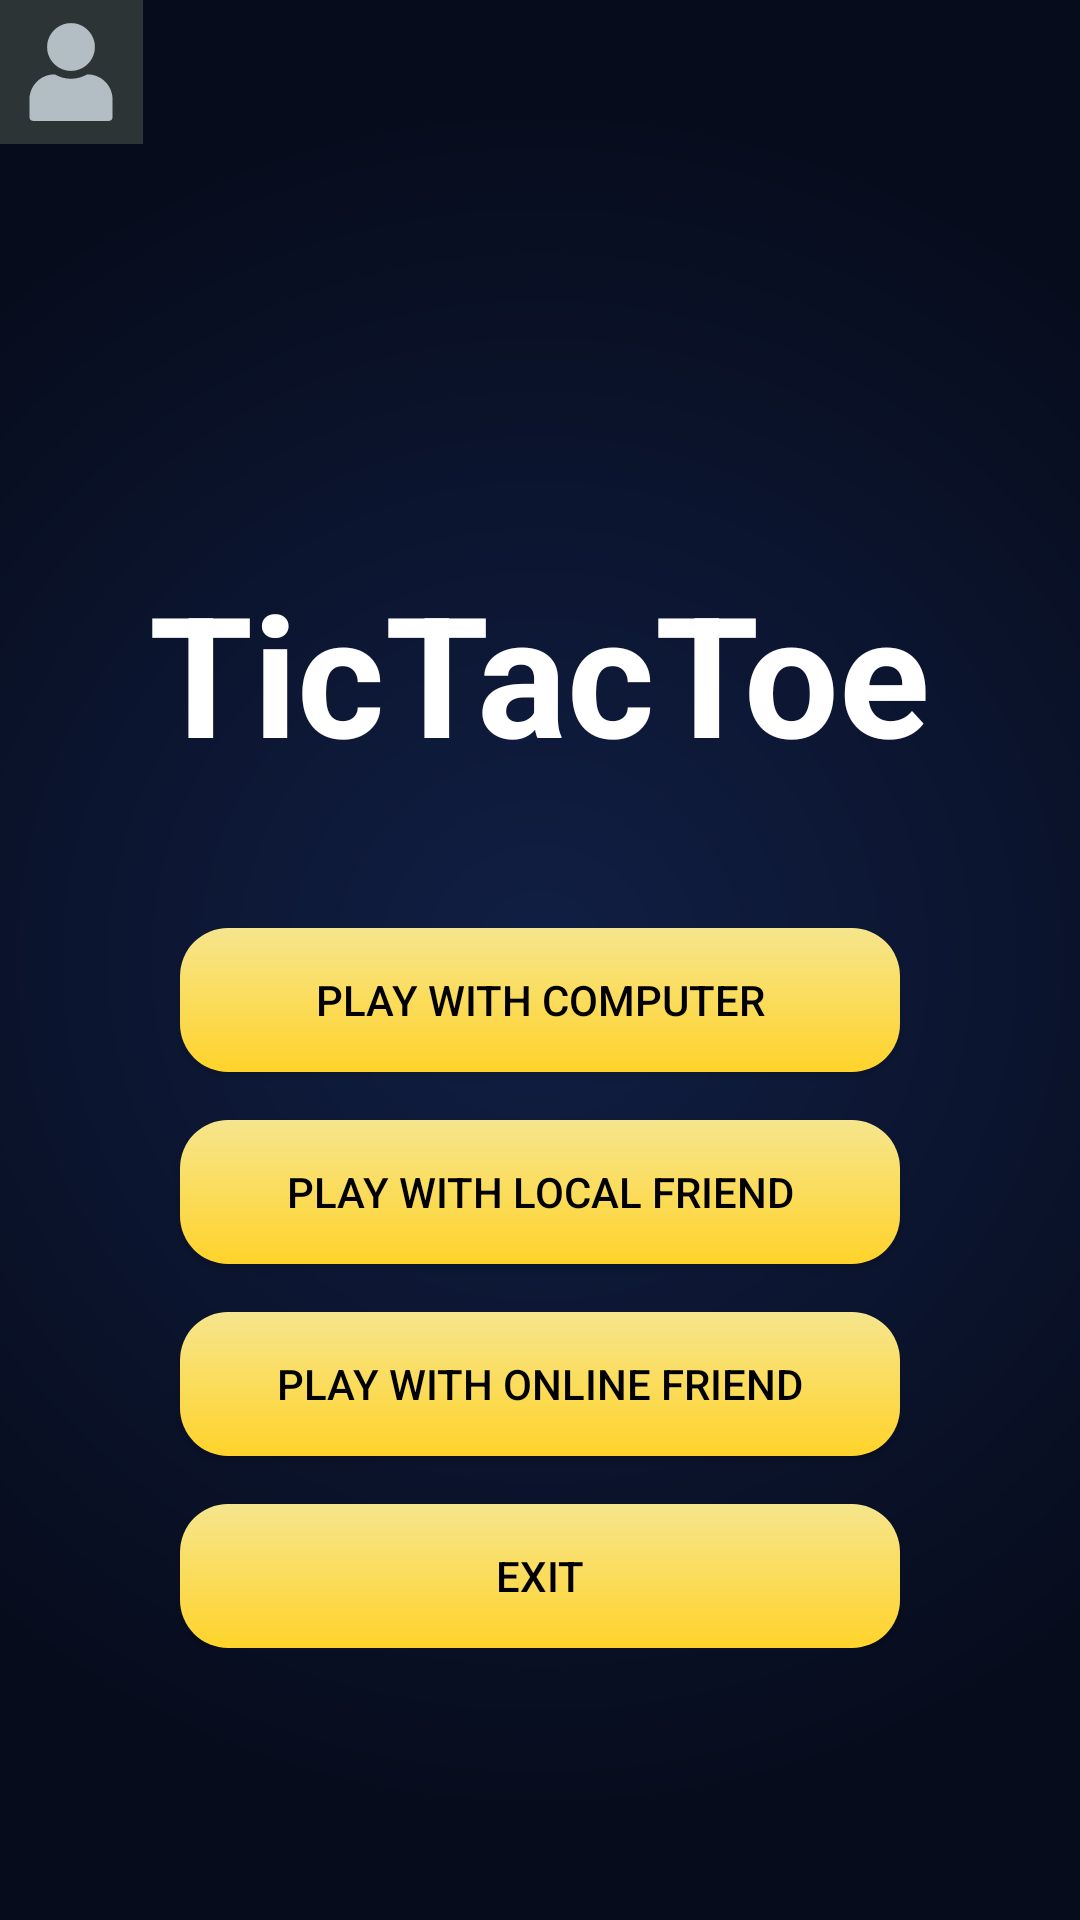

Where to tap for icons on this 1080w x 1920h app screen, as (x,y):
user: (71,72)
